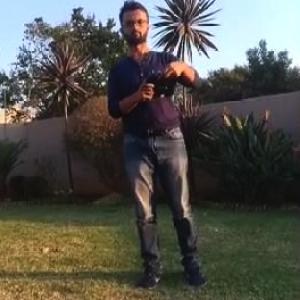follow: (101, 0, 214, 297)
